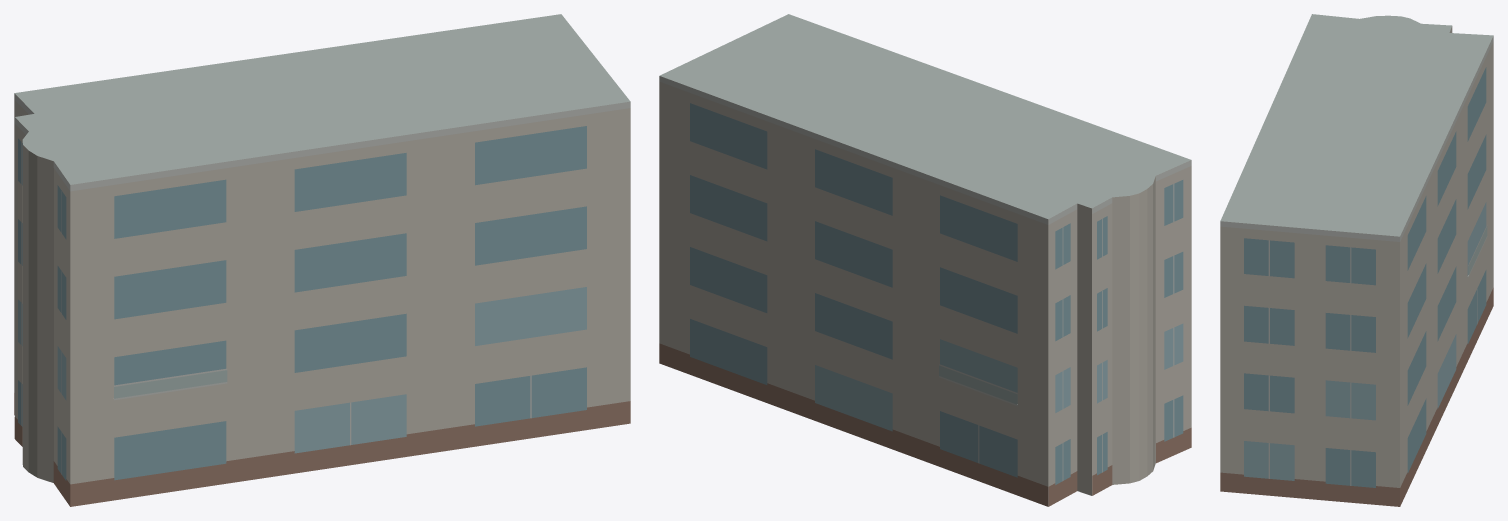
File: survey-upis-32586022.glb
3 renders of one model, left to right at view 1: azimuth 30°, elevation 25°; view 2: azimuth 150°, elevation 25°; view 3: azimuth 270°, elevation 25°, orthographic. The views are drawn at different scales.
Parts seen in each view (by area): view 1: survey-upis-32586022.tmp; view 2: survey-upis-32586022.tmp; view 3: survey-upis-32586022.tmp.
Boxes of the visible parts, left/top/right/bottom form: survey-upis-32586022.tmp: left=14, top=14, right=630, bottom=506; survey-upis-32586022.tmp: left=659, top=14, right=1191, bottom=506; survey-upis-32586022.tmp: left=1220, top=14, right=1493, bottom=506.
Size of the model in its own units: 21.56 by 12.2 by 11.2.
